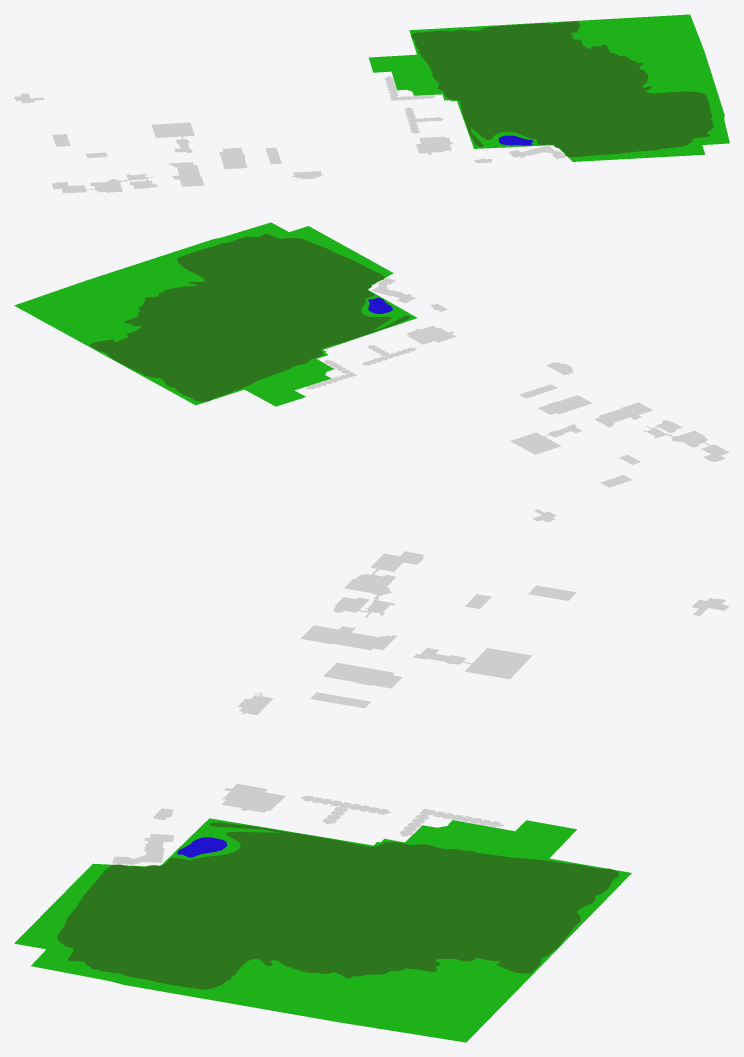
File: scaled_map_view.glb
3 views of the same model, one above another, from view 1: azimuth 30°, elevation 25°; view 2: azimuth 150°, elevation 25°; view 3: azimuth 270°, elevation 25° (orthographic). The views are drawn at different scales.
Parts seen in each view (by area): view 1: map_5.osm_forest, map_5.osm_vegetation, map_5.osm_buildings; view 2: map_5.osm_forest, map_5.osm_vegetation, map_5.osm_buildings; view 3: map_5.osm_forest, map_5.osm_vegetation, map_5.osm_buildings.
Part boxes in pixels (left/top/right/bottom): map_5.osm_forest: left=411, top=21, right=713, bottom=156; map_5.osm_vegetation: left=369, top=14, right=729, bottom=161; map_5.osm_buildings: left=14, top=76, right=565, bottom=193; map_5.osm_forest: left=89, top=233, right=409, bottom=401; map_5.osm_vegetation: left=14, top=222, right=416, bottom=406; map_5.osm_buildings: left=305, top=278, right=729, bottom=522; map_5.osm_forest: left=57, top=822, right=618, bottom=989; map_5.osm_vegetation: left=14, top=818, right=631, bottom=1042; map_5.osm_buildings: left=112, top=551, right=729, bottom=864.
Bounding box in the file's own units: 106 × 0.9644 × 65.56.
